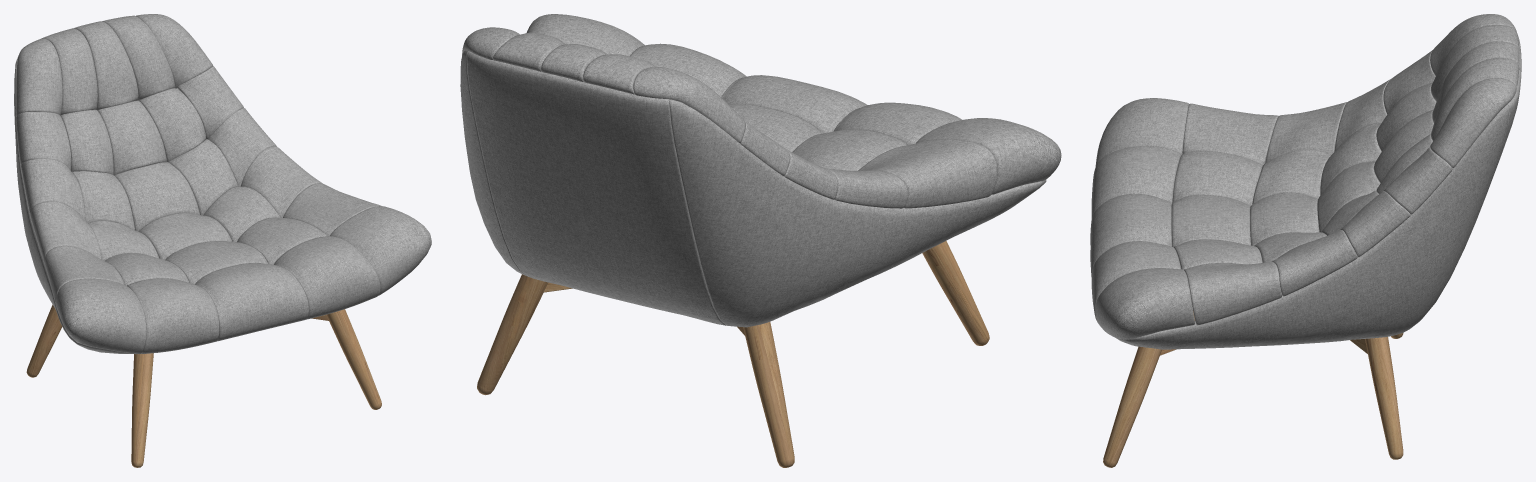
File: greyChair.gltf
The picture shows the model from 3 angles, left to right: view 1: azimuth 30°, elevation 25°; view 2: azimuth 150°, elevation 25°; view 3: azimuth 270°, elevation 25°; orthographic projection. The views are drawn at different scales.
Visible parts, largest first — view 1: Kolton_Chair_FABRIC_0, Kolton_Chair_WOOD_0; view 2: Kolton_Chair_FABRIC_0, Kolton_Chair_WOOD_0; view 3: Kolton_Chair_FABRIC_0, Kolton_Chair_WOOD_0.
Part boxes in pixels (left/top/right/bottom): Kolton_Chair_FABRIC_0: left=14, top=14, right=431, bottom=354; Kolton_Chair_WOOD_0: left=26, top=304, right=381, bottom=467; Kolton_Chair_FABRIC_0: left=460, top=14, right=1061, bottom=327; Kolton_Chair_WOOD_0: left=477, top=241, right=989, bottom=467; Kolton_Chair_FABRIC_0: left=1090, top=14, right=1521, bottom=349; Kolton_Chair_WOOD_0: left=1103, top=311, right=1403, bottom=467.
Size of what is drawn, in the model's own units: 114 by 88.1 by 97.9.
Materials: 2 (2 with a texture image).
